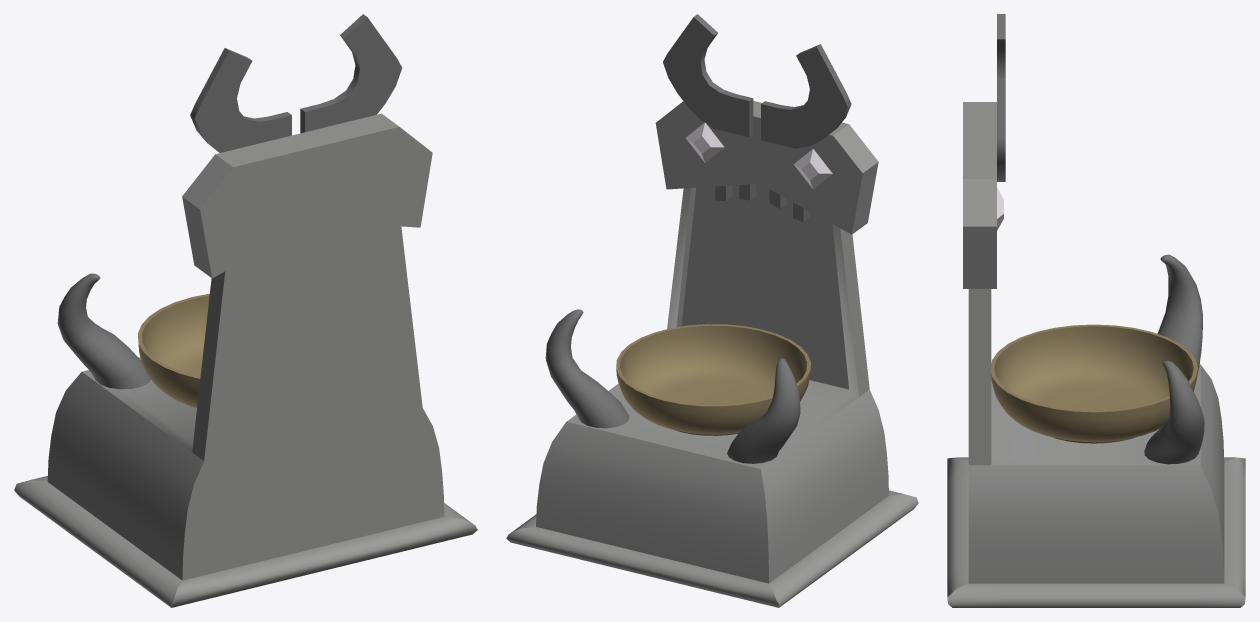
Rendered from Brazier.fbx.
3 renders of one model, left to right at view 1: azimuth 30°, elevation 25°; view 2: azimuth 150°, elevation 25°; view 3: azimuth 270°, elevation 25°, orthographic. The views are drawn at different scales.
Visible parts, largest first — view 1: Brazier.001; view 2: Brazier.001; view 3: Brazier.001.
Part boxes in pixels (x1=…): Brazier.001: x1=14, y1=14, x2=477, y2=607; Brazier.001: x1=506, y1=14, x2=918, y2=607; Brazier.001: x1=947, y1=14, x2=1245, y2=607.
Size of the model in its own units: 98.48 by 159 by 87.53.
